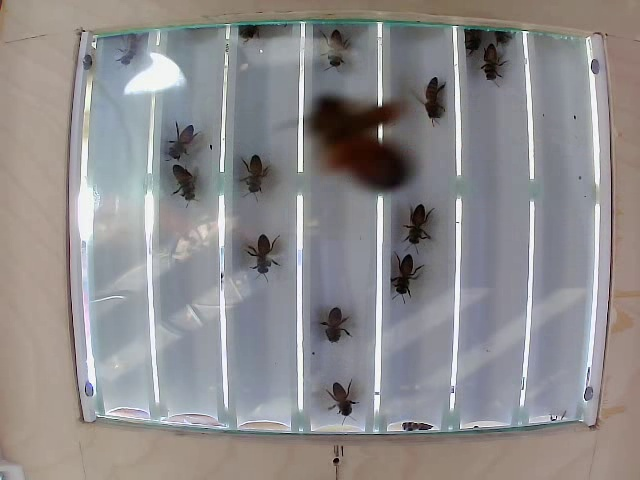bee: (244, 234, 293, 288), (168, 164, 210, 215), (316, 377, 360, 421), (233, 144, 272, 193), (161, 126, 205, 168), (424, 72, 452, 136), (475, 41, 506, 96), (113, 33, 153, 73), (391, 253, 420, 303), (316, 302, 353, 340), (323, 27, 349, 78), (405, 208, 437, 246)
